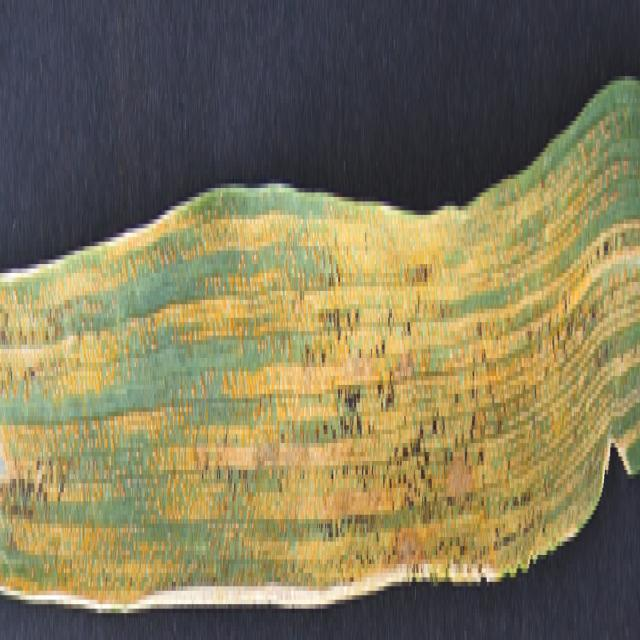leaf rust: (0, 67, 640, 604)
